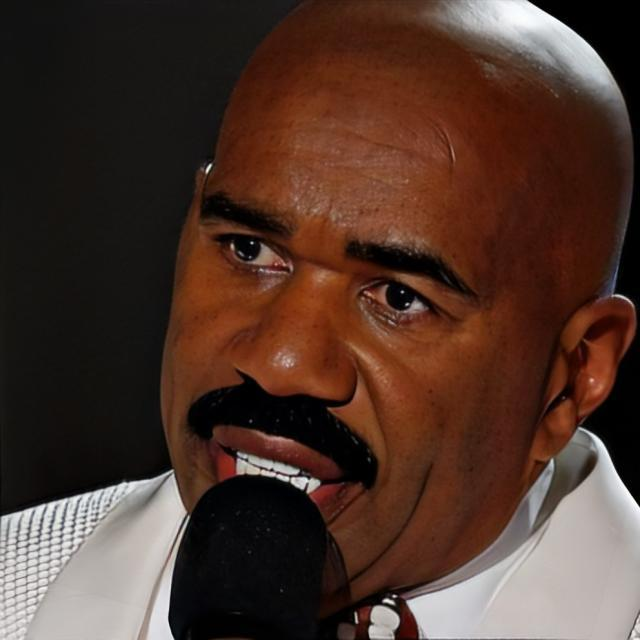anger: (162, 53, 561, 580)
